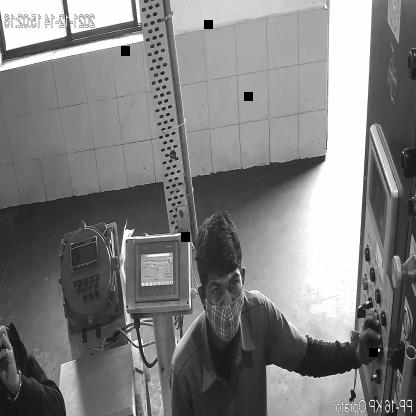no_goggles: (207, 267, 242, 300)
